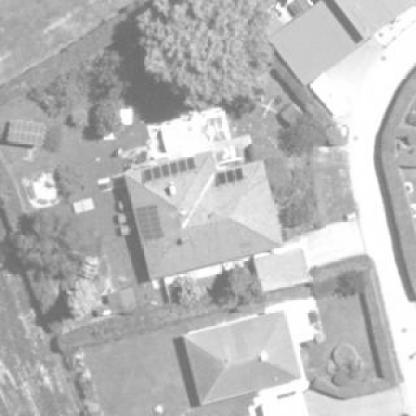solar-pv-panel: (141, 157, 194, 184), (135, 204, 165, 244), (6, 118, 46, 146), (215, 166, 243, 187)
